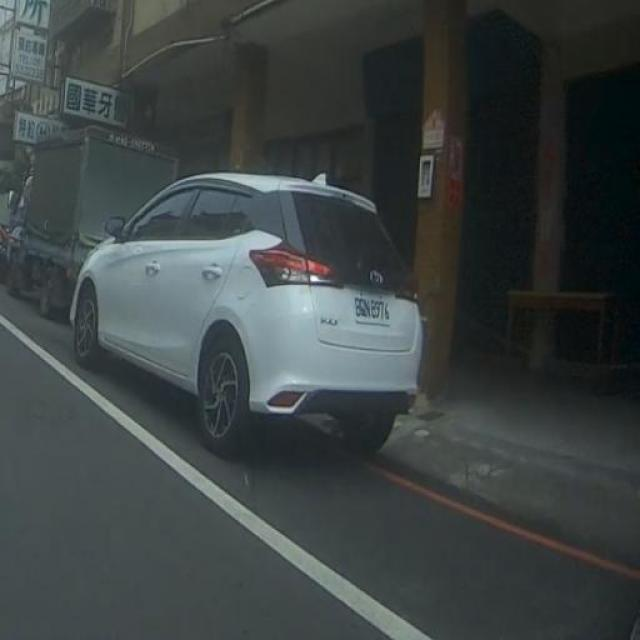illegalparking: (9, 128, 459, 454)
